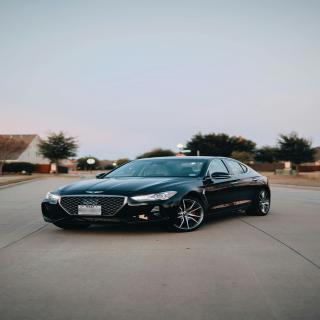Normal_vehicle: (39, 156, 274, 233)
